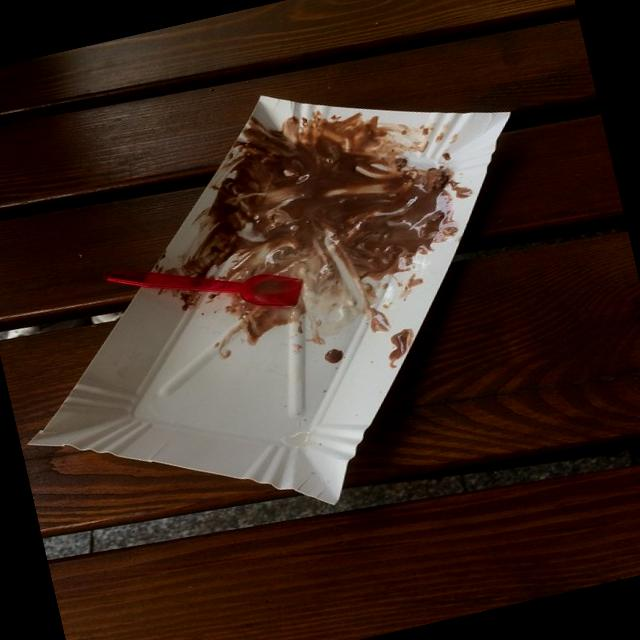Trash: (0, 35, 600, 572)
